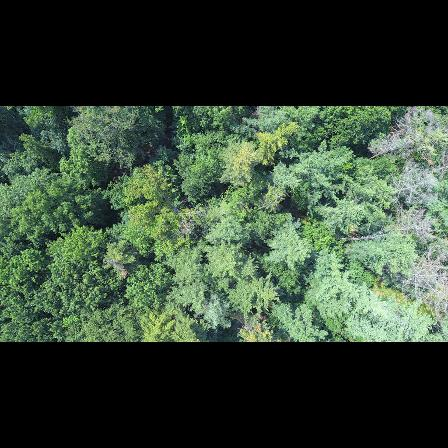Dead: (361, 112, 425, 164), (382, 170, 443, 208), (394, 275, 448, 312), (403, 256, 448, 277)
